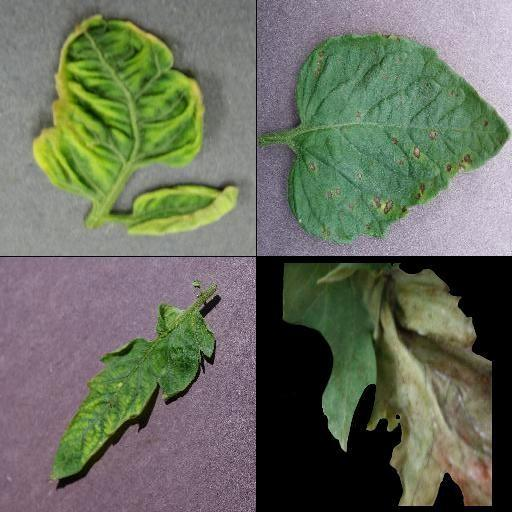Late Blight: (283, 265, 491, 507)
Mosaic Virus: (50, 301, 216, 483)
Septoria: (286, 36, 510, 244)
Yellow Leaf Curl Virus: (33, 12, 204, 192), (124, 183, 239, 237)
